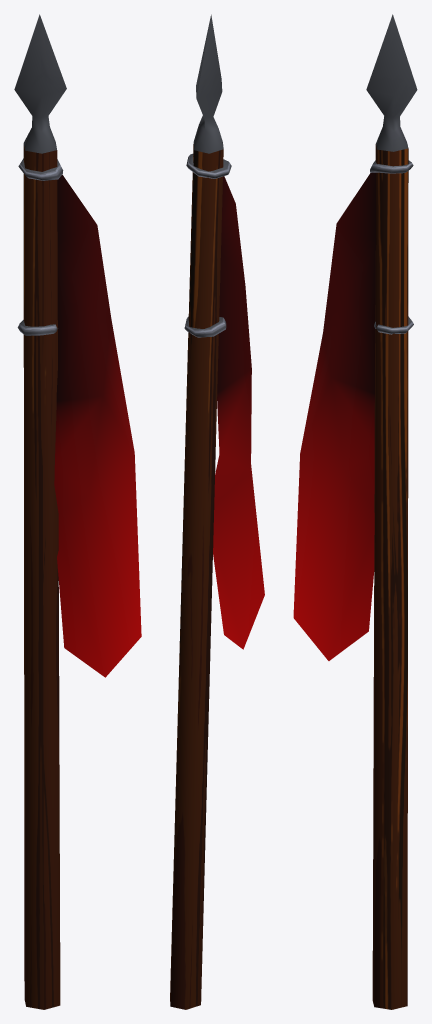
File: SM_PROP_flag_03.fbx
3 renders of one model, left to right at view 1: azimuth 90°, elevation 25°; view 2: azimuth 150°, elevation 25°; view 3: azimuth 270°, elevation 25°, orthographic. The views are drawn at different scales.
Visible parts, largest first — view 1: SM_PROP_flag_03; view 2: SM_PROP_flag_03; view 3: SM_PROP_flag_03.
Part boxes in pixels (left/top/right/bottom): SM_PROP_flag_03: left=14, top=14, right=141, bottom=1009; SM_PROP_flag_03: left=170, top=14, right=264, bottom=1009; SM_PROP_flag_03: left=293, top=14, right=417, bottom=1009.
Size of the model in its own units: 40.65 by 656 by 75.52.
